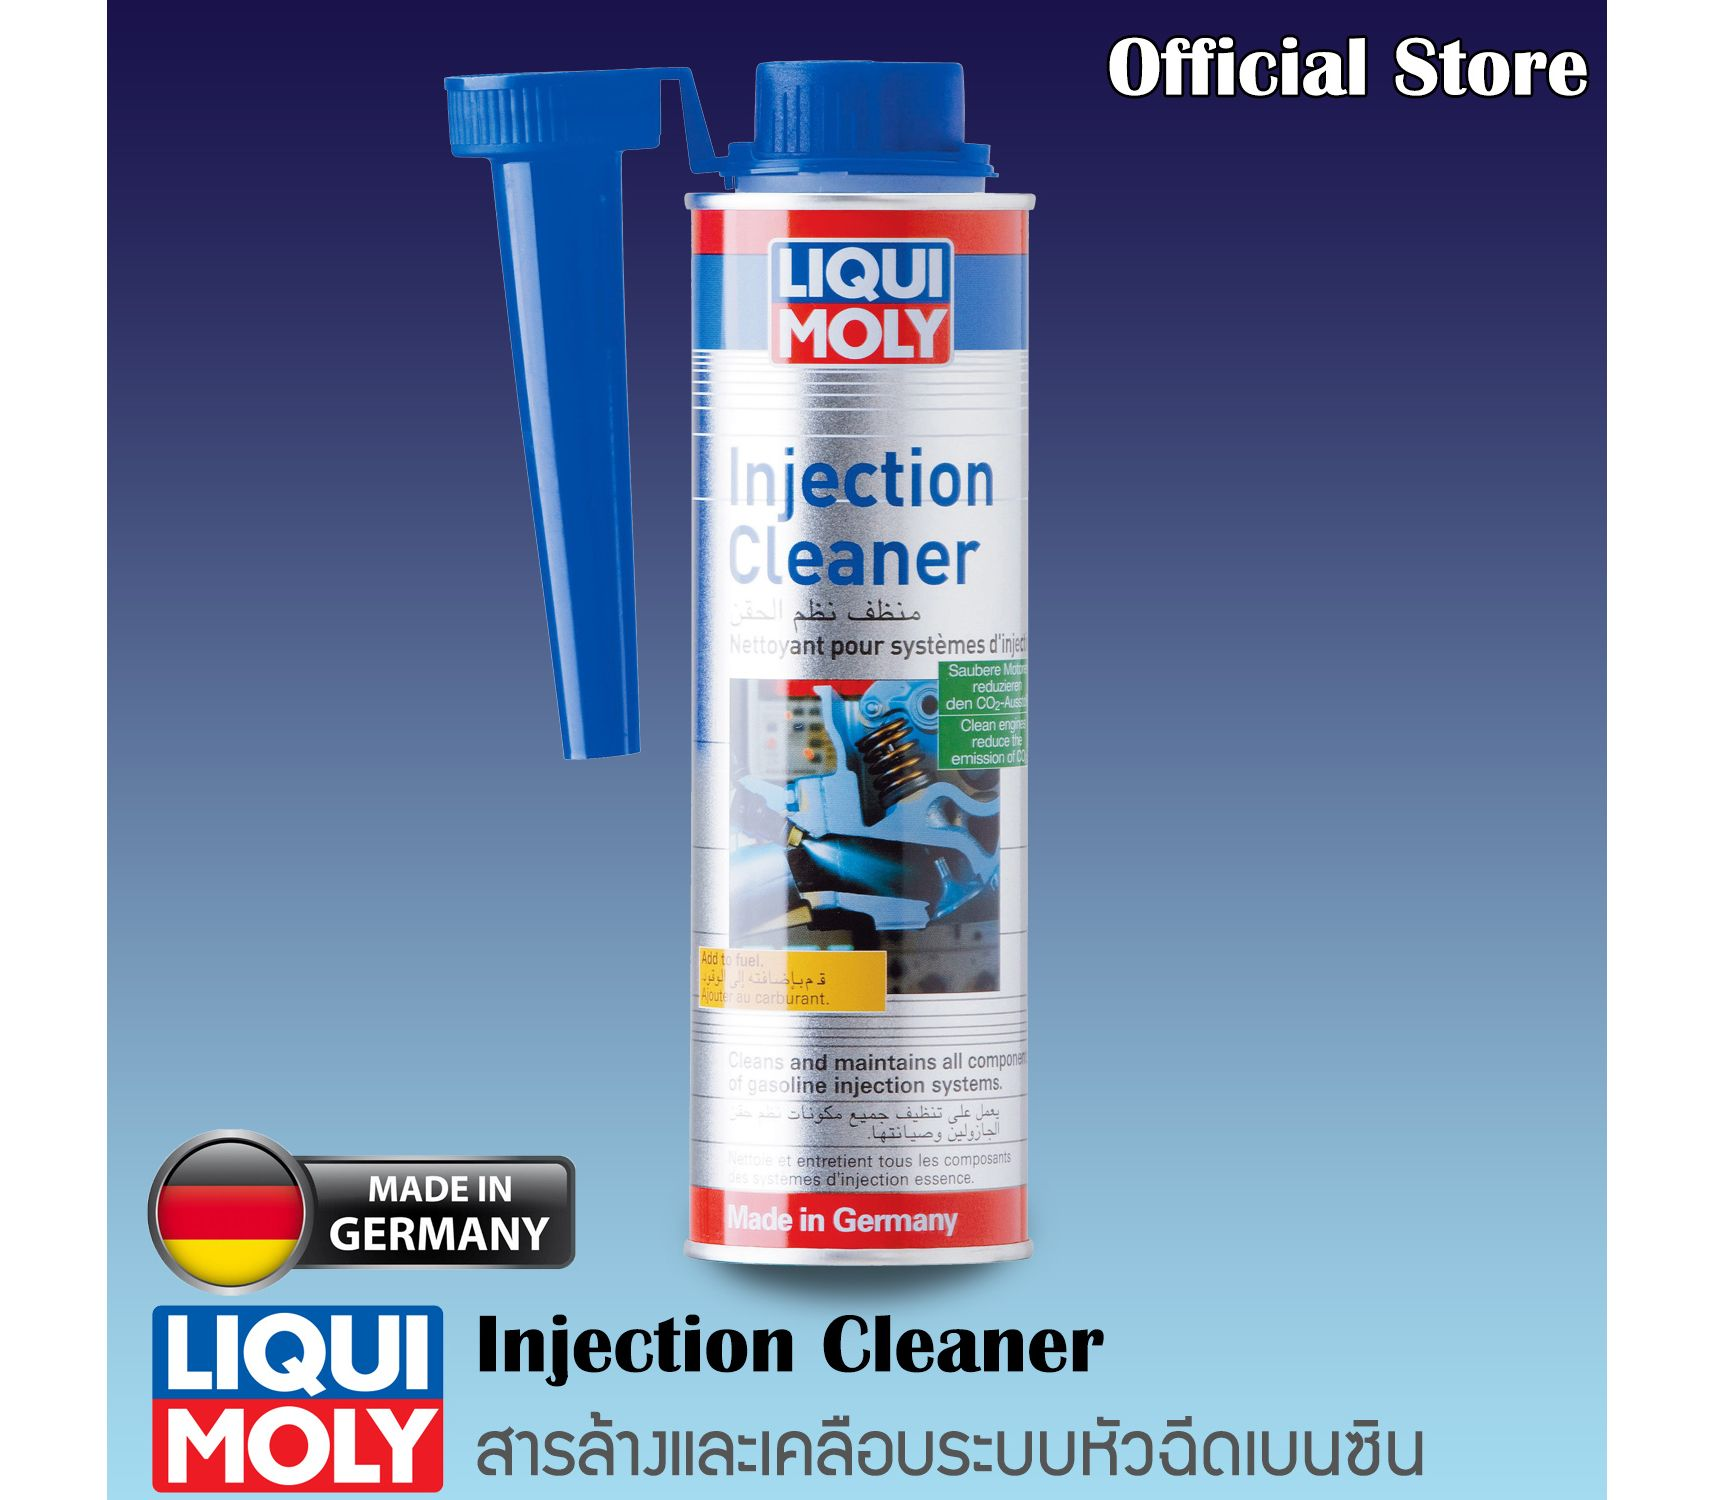Cleaning_solution: (666, 42, 1043, 1273)
